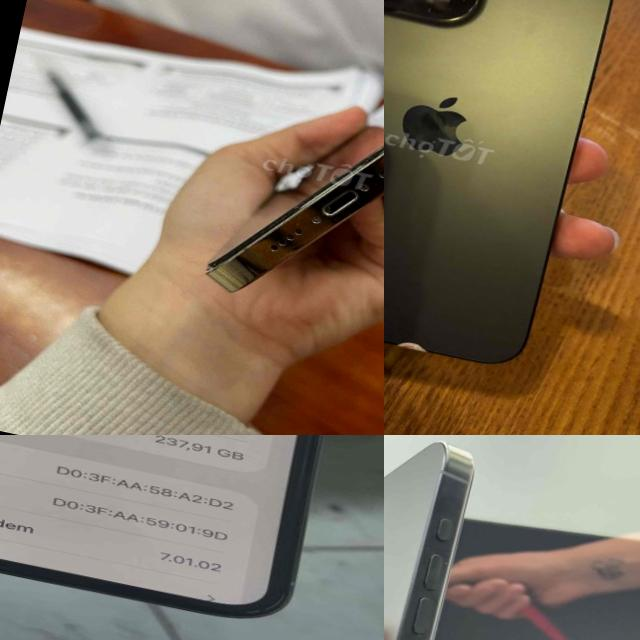gen_11: (0, 435, 381, 636)
gen_12_13: (196, 37, 384, 344)
gen_15: (384, 0, 634, 398)
gen_16: (384, 442, 472, 640)
